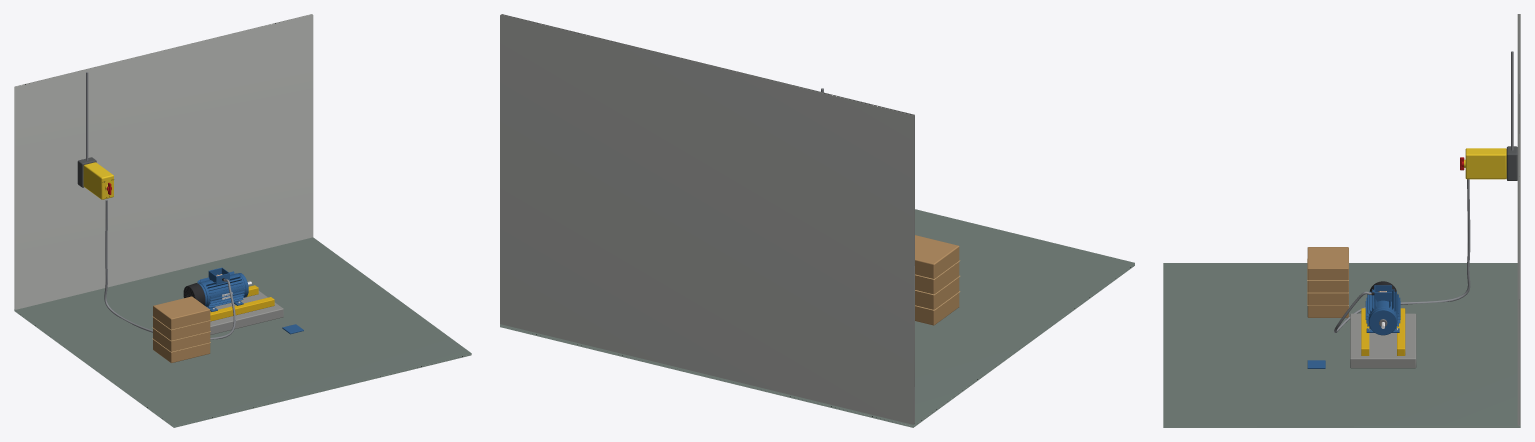
Rendered from inst_motor.glb.
The picture shows the model from 3 angles, left to right: view 1: azimuth 30°, elevation 25°; view 2: azimuth 150°, elevation 25°; view 3: azimuth 270°, elevation 25°; orthographic projection. The views are drawn at different scales.
Parts seen in each view (by area): view 1: room, crate, base, isolator, cable, motor, fins; view 2: room, crate; view 3: room, base, crate, isolator, cable, motor, fins.
Boxes of the visible parts, box(x1,y1,x2,y2) form: room: box(14, 14, 471, 427); crate: box(152, 296, 210, 362); base: box(210, 285, 283, 334); isolator: box(77, 157, 113, 199); cable: box(86, 72, 235, 339); motor: box(198, 273, 248, 311); fins: box(197, 271, 244, 307); room: box(500, 14, 1134, 427); crate: box(915, 235, 960, 325); room: box(1163, 14, 1520, 427); base: box(1350, 308, 1416, 368); crate: box(1307, 247, 1348, 317); isolator: box(1464, 146, 1517, 180); cable: box(1334, 51, 1513, 332); motor: box(1366, 289, 1399, 335); fins: box(1365, 289, 1400, 329).
Size of the model in its own units: 2.8 by 2.02 by 2.6.
